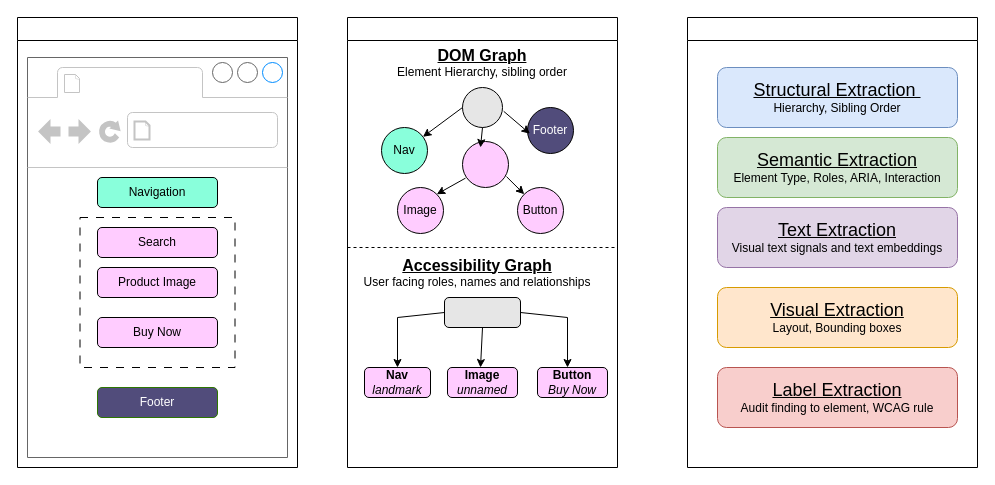
Image size: 995x485. Some labels were removed from this diagram. The box of each missing label's shape, as (x1, y1, x2, y2) in pixels:
Accessibility Information Extracted: (686, 16, 978, 468)
Example Page: (16, 16, 298, 468)
Graph Views: (346, 16, 618, 468)
Main: (462, 140, 508, 188)
Page: (462, 86, 502, 128)
Page document: (444, 296, 520, 328)
Website: (86, 68, 198, 96)
